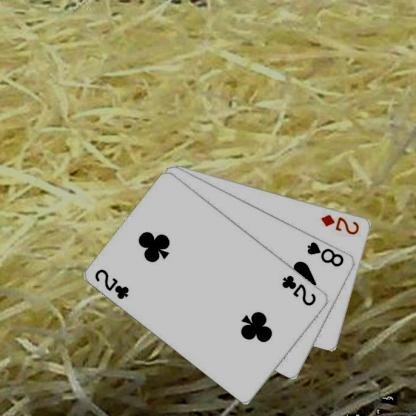2C: (92, 266, 131, 301), (280, 272, 317, 308)
2D: (318, 212, 361, 236)
8S: (304, 239, 346, 268)
